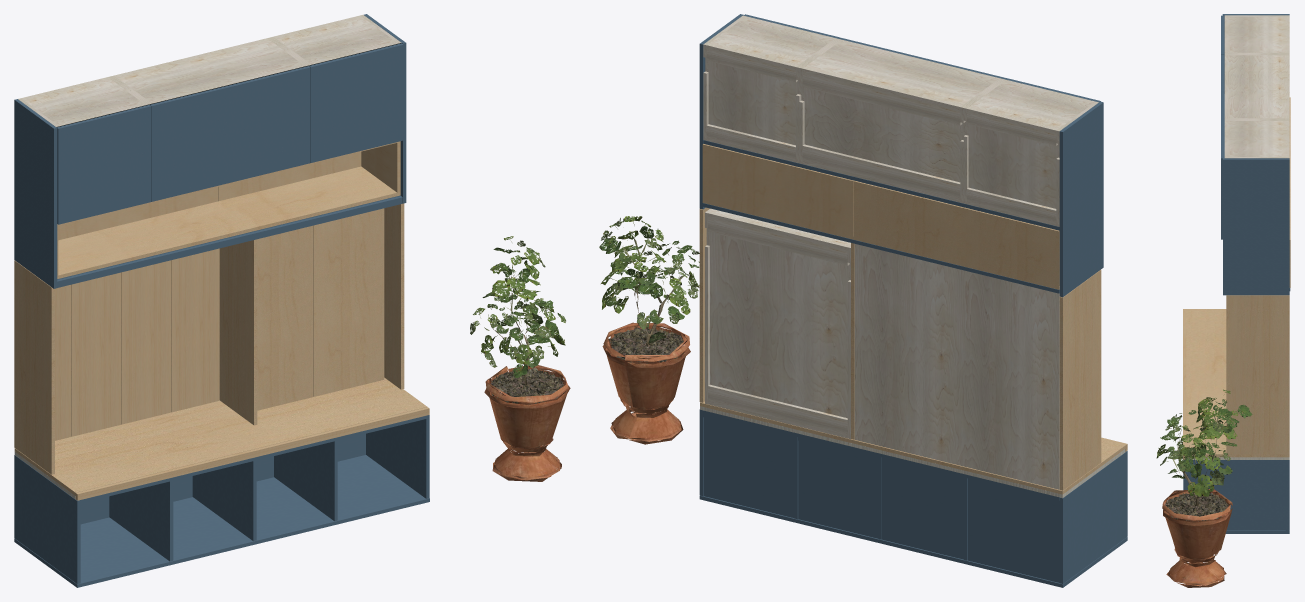
File: mudroom.glb
3 views of the same model, side by side, from view 1: azimuth 30°, elevation 25°; view 2: azimuth 150°, elevation 25°; view 3: azimuth 270°, elevation 25° (orthographic). The views are drawn at different scales.
Parts seen in each view (by area): view 1: mudroom.001, mv_mudroom_004, mv_mudroom_000, mv_mudroom_001, mv_mudroom_002, mv_mudroom_003; view 2: mudroom.001; view 3: mudroom.001, mv_mudroom_002, mv_mudroom_004.
Boxes of the visible parts, <box> form: mudroom.001: <box>14,14,570,587</box>; mv_mudroom_004: <box>150,66,310,201</box>; mv_mudroom_000: <box>313,208,384,396</box>; mv_mudroom_001: <box>257,225,313,410</box>; mv_mudroom_002: <box>309,43,403,162</box>; mv_mudroom_003: <box>57,105,150,224</box>; mudroom.001: <box>599,14,1127,587</box>; mudroom.001: <box>1156,14,1290,587</box>; mv_mudroom_002: <box>1221,120,1224,239</box>; mv_mudroom_004: <box>1221,54,1224,119</box>.
Bounding box in the file's own units: 2.85 × 2.42 × 0.7866.
9 materials, 9 textured.
